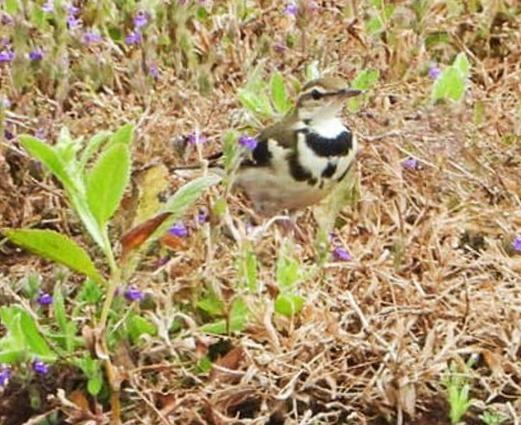wagtail: (213, 67, 364, 235)
